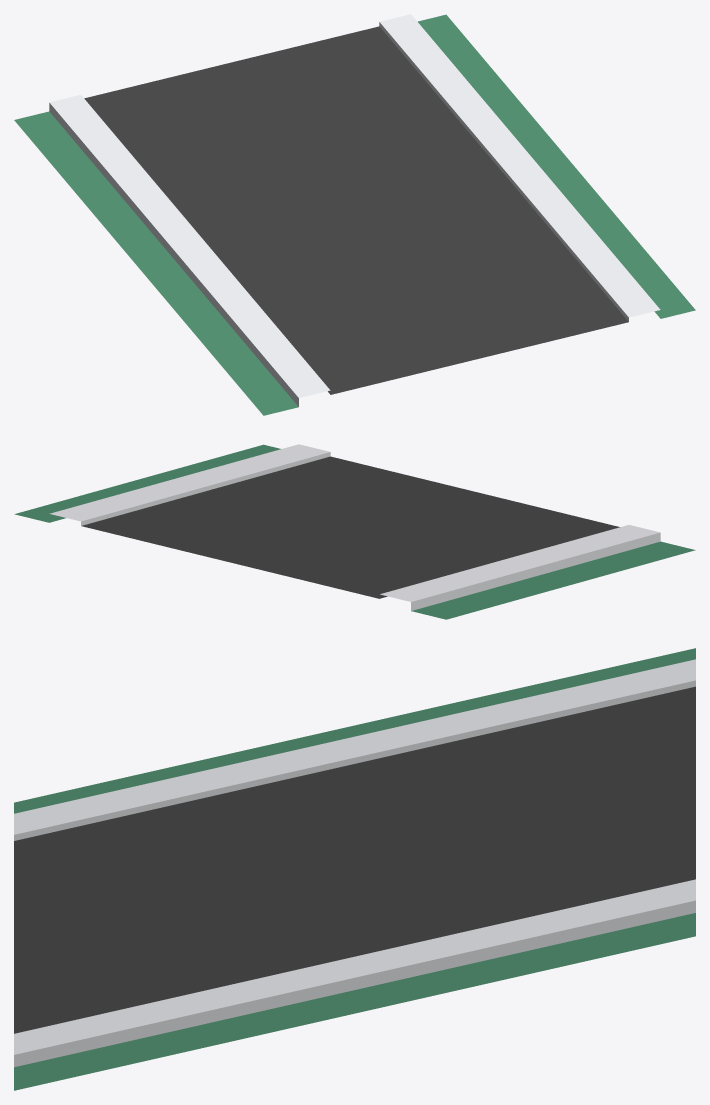
Rendered from roadRamp.glb.
The picture shows the model from 3 angles, top to bottom: view 1: azimuth 30°, elevation 25°; view 2: azimuth 150°, elevation 25°; view 3: azimuth 270°, elevation 25°; orthographic projection. The views are drawn at different scales.
Parts seen in each view (by area): view 1: roadRamp(Clone); view 2: roadRamp(Clone); view 3: roadRamp(Clone).
Part boxes in pixels (x1=…): roadRamp(Clone): x1=14, y1=14, x2=695, y2=415; roadRamp(Clone): x1=14, y1=444, x2=695, y2=619; roadRamp(Clone): x1=14, y1=648, x2=695, y2=1090.
Size of the model in its own units: 1 by 0.27 by 1.
